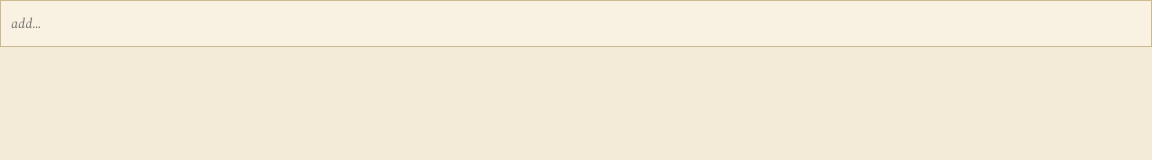
ChipField filtering › narrows the menu to matching options
Type "ach" into the dropdown named "Allies" at (576, 24), box x1=11 y1=8 x2=1141 y2=39
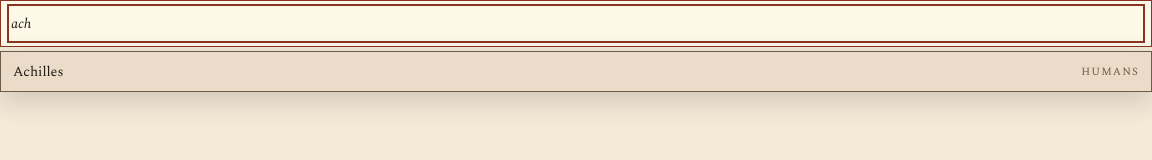
Now the option shows "Achilles", box x1=1 y1=52 x2=1151 y2=91
Now the number of options is 1, box x1=1 y1=52 x2=1151 y2=91
